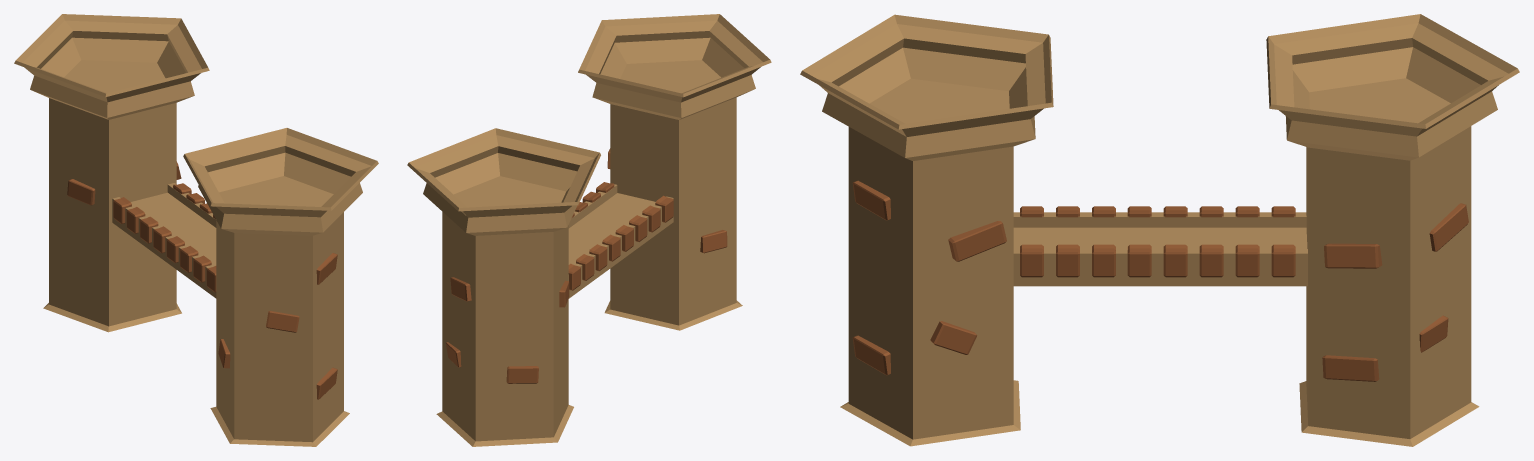
Rendered from BridgeTowers.fbx.
The picture shows the model from 3 angles, left to right: view 1: azimuth 30°, elevation 25°; view 2: azimuth 150°, elevation 25°; view 3: azimuth 270°, elevation 25°; orthographic projection. The views are drawn at different scales.
Visible parts, largest first — view 1: Cube.001; view 2: Cube.001; view 3: Cube.001.
Boxes of the visible parts, <box> form: Cube.001: <box>14,14,378,446</box>; Cube.001: <box>407,14,771,446</box>; Cube.001: <box>800,14,1519,446</box>.
Bounding box in the file's own units: 2226 × 3113 × 6010.
